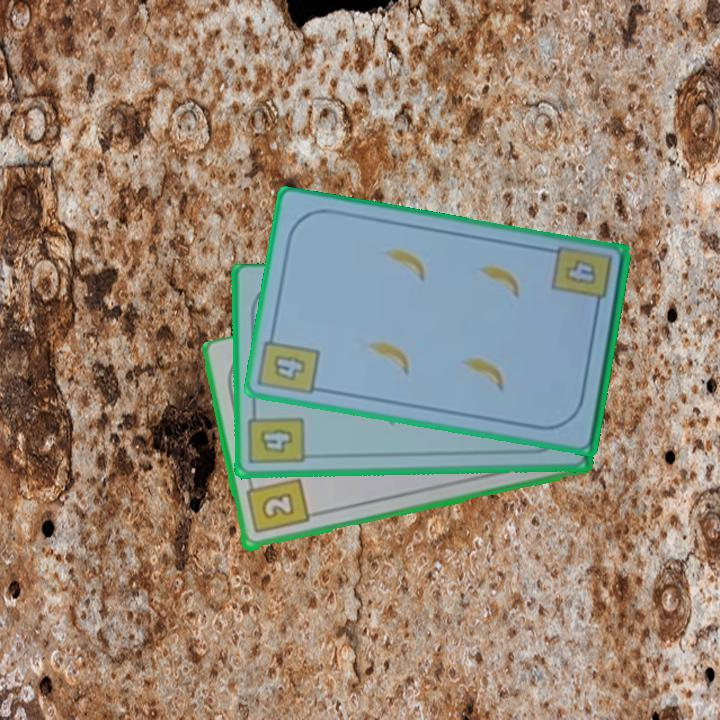2b: (242, 475, 311, 537)
4b: (257, 327, 322, 398), (245, 405, 307, 467), (561, 256, 599, 289)
